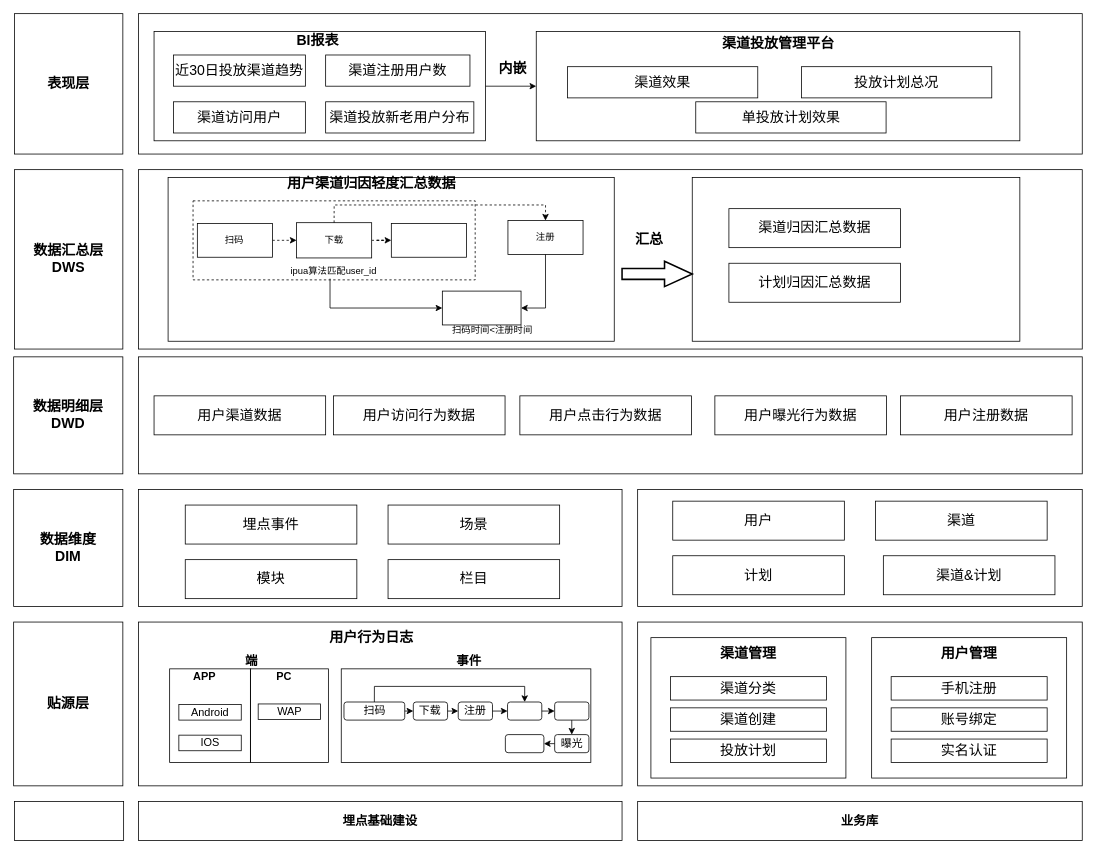
Some shapes in this 1096 by 854 pixel diagram are drawn without their labels. Each missing label, with the centre of its shape:
"user_id末次归因渠道" goes at point (481, 307).
"点击" goes at point (524, 743).
"登录" goes at point (524, 710).
"登陆" goes at point (428, 240).
"访问" goes at point (571, 710).
"资源层" goes at point (69, 820).
